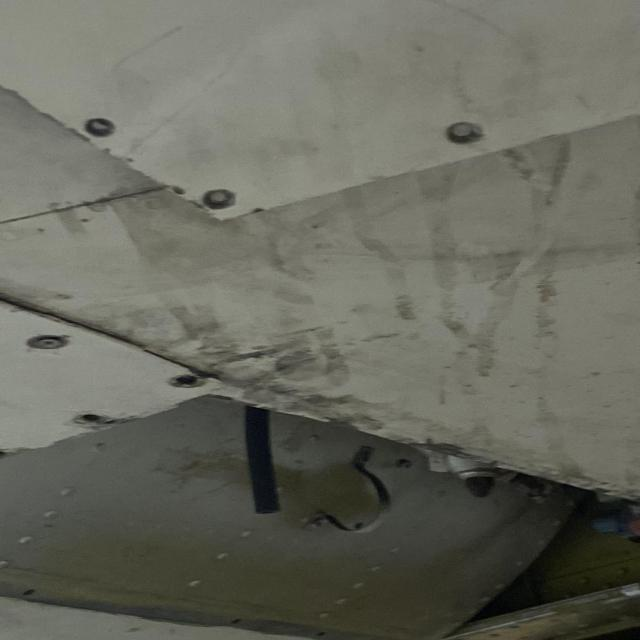Missing-head: (444, 120, 485, 144), (199, 188, 234, 210), (70, 413, 116, 429), (81, 116, 114, 137), (167, 373, 205, 389)
